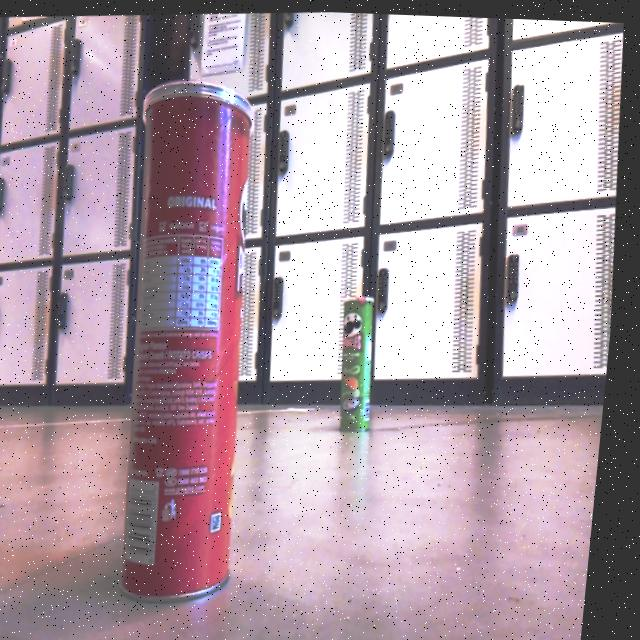greenpringles: (328, 281, 397, 441)
redpringles: (92, 54, 305, 611)
